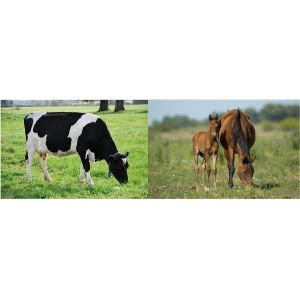cow: (22, 111, 130, 187)
horse: (224, 109, 259, 191), (190, 114, 223, 191)
